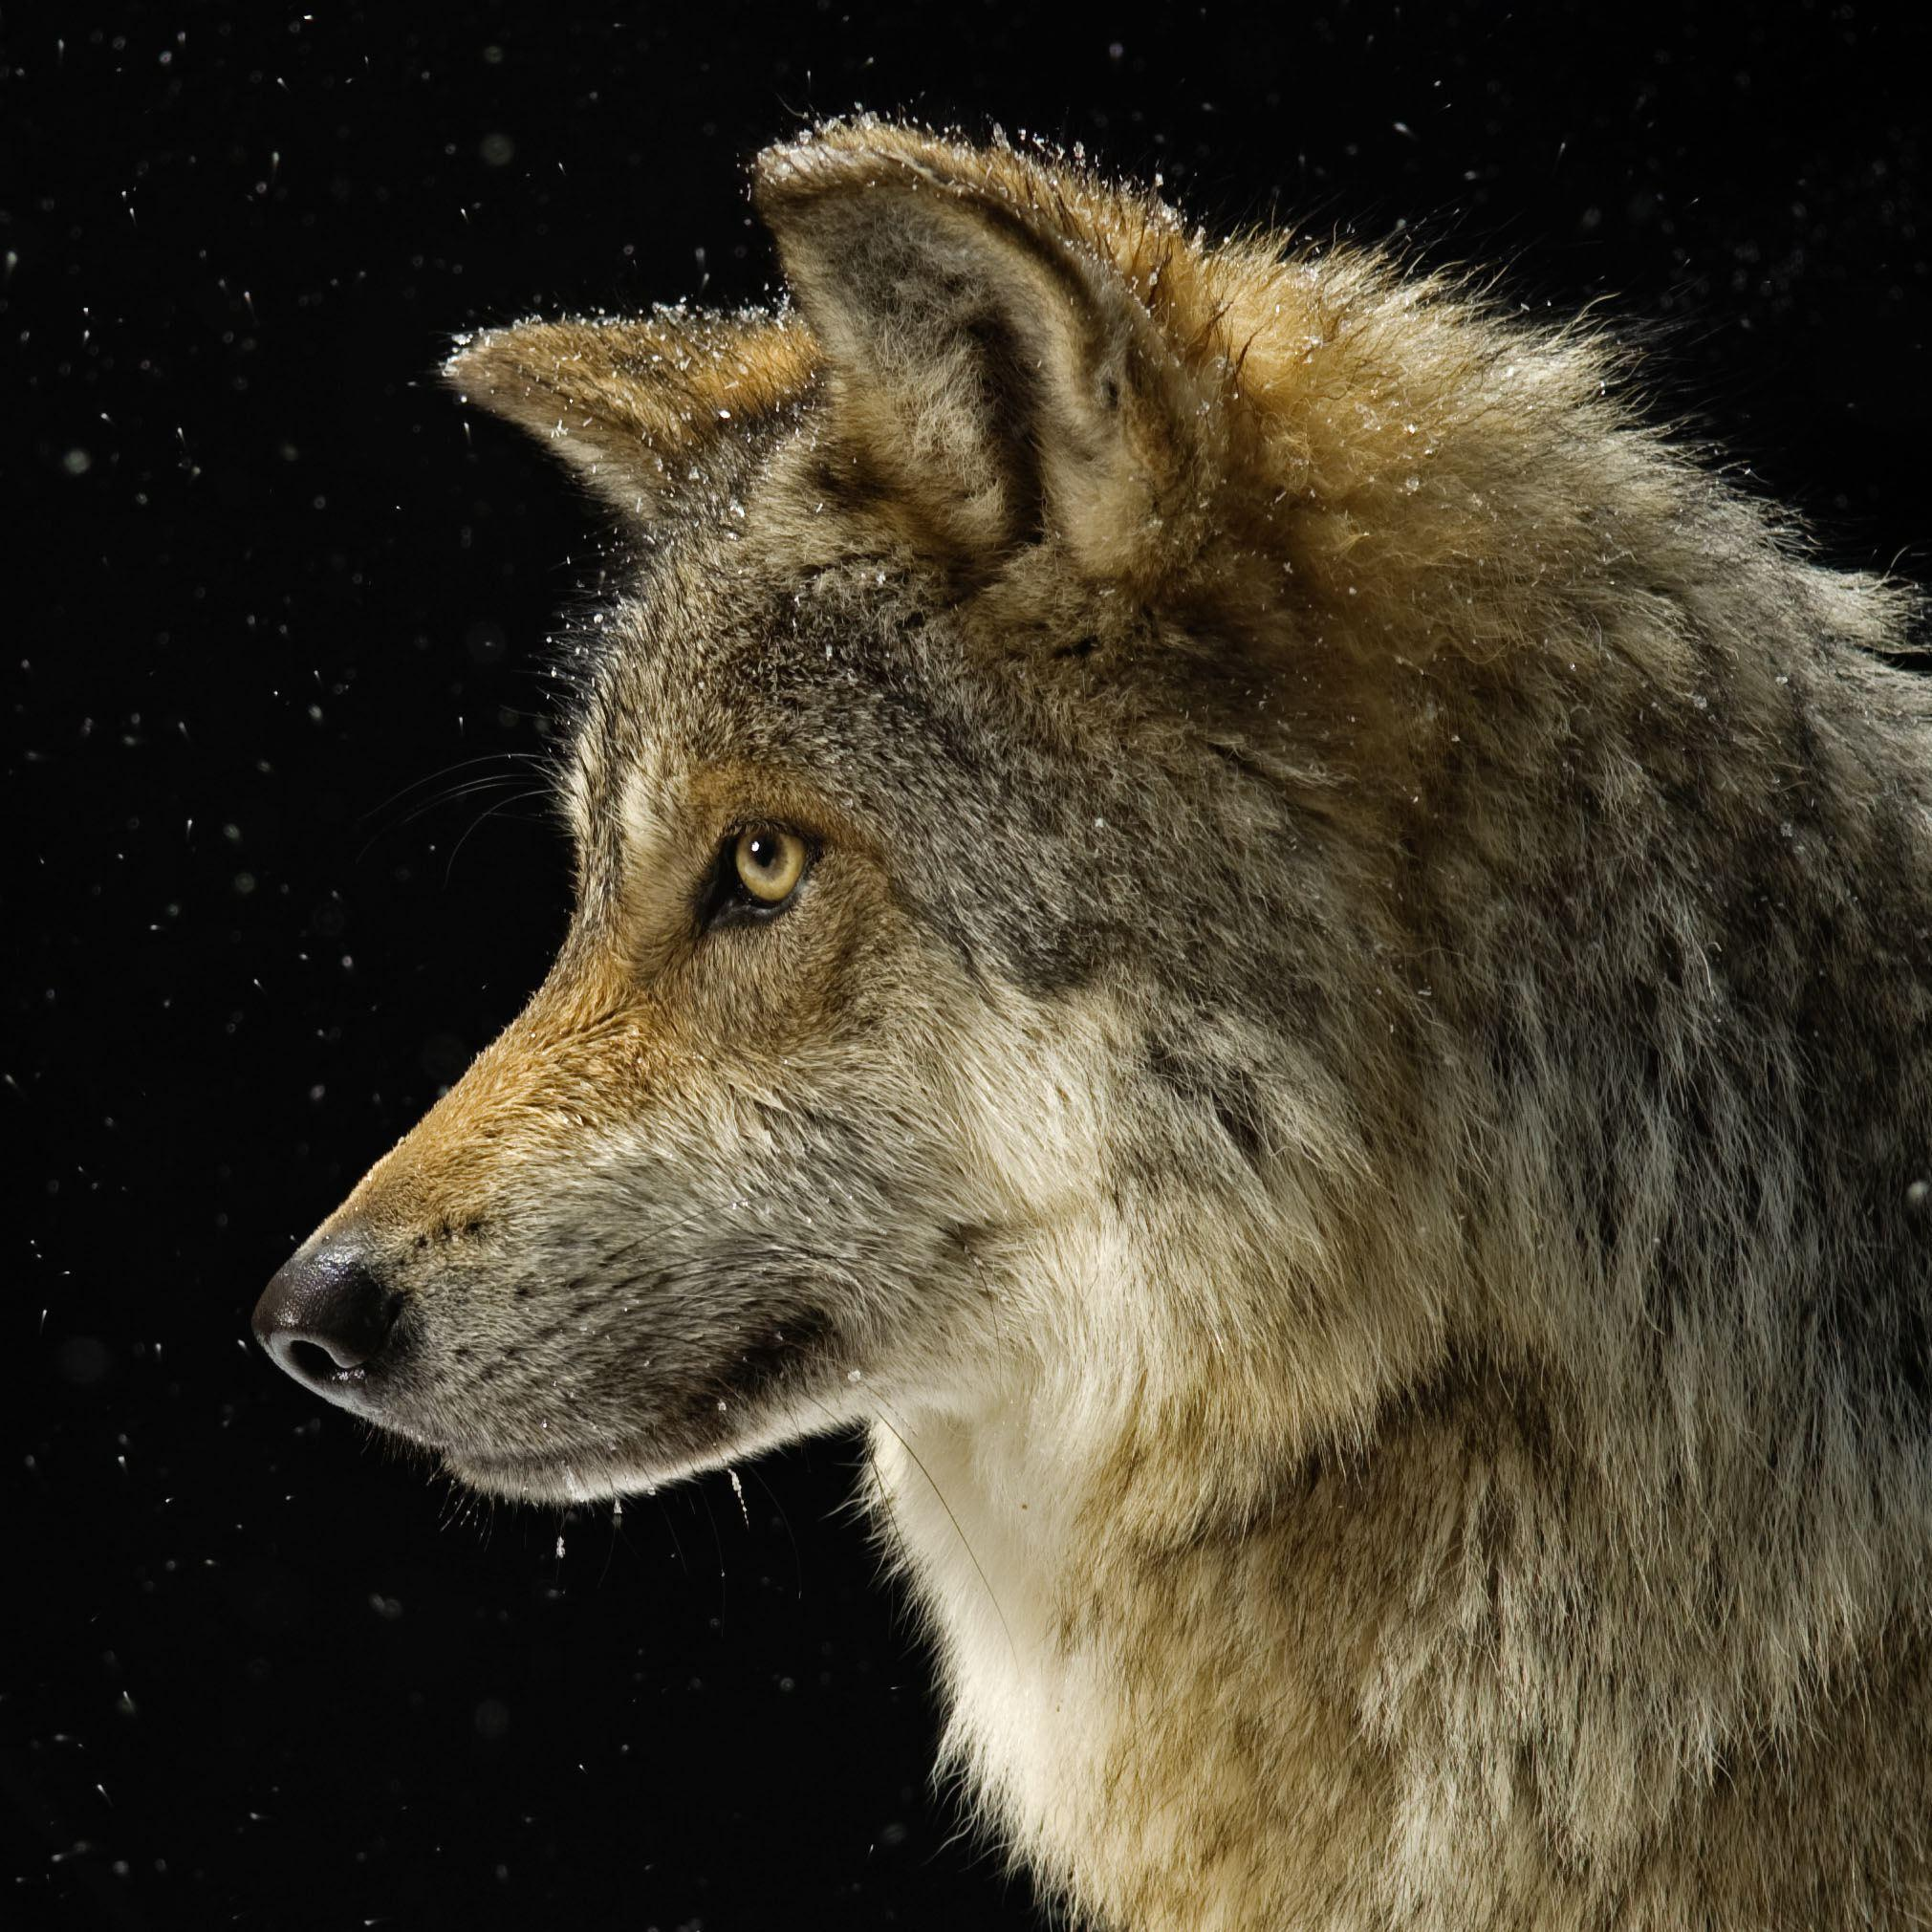Wolf: (249, 97, 1932, 1918)
